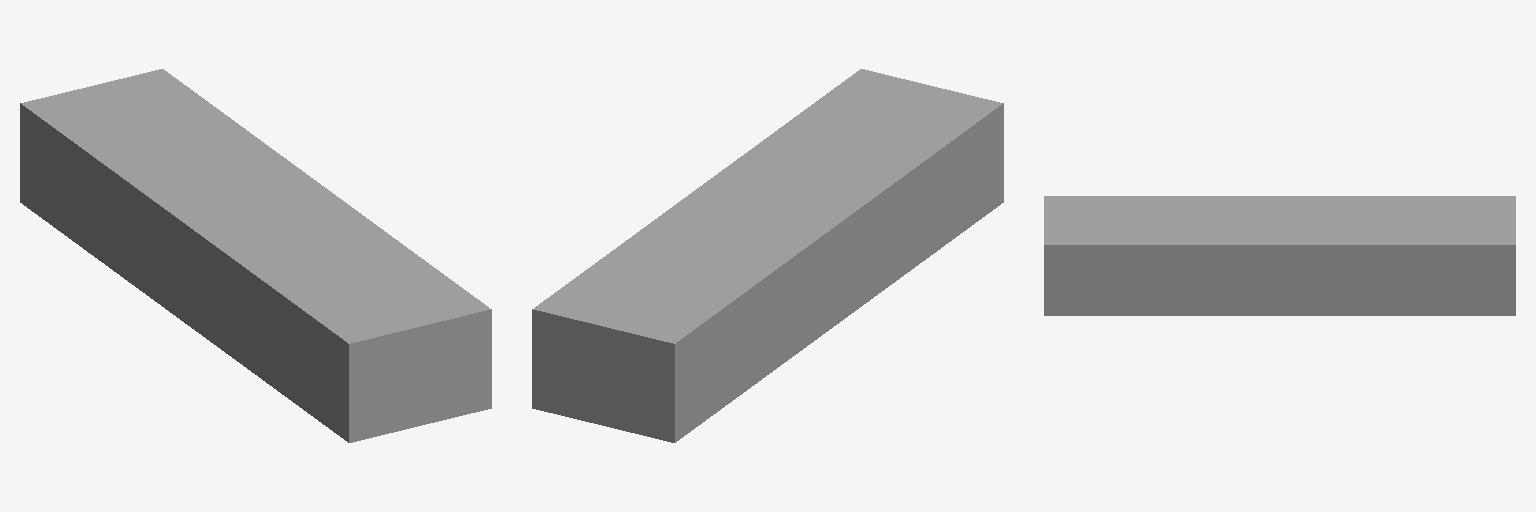
The robot description file, URDF, robot "table":
<?xml version="1.0" ?>
<robot name="table">
  <link name="table">
    <visual>
      <geometry>
        <box size="0.3 1.2 0.2"/>
      </geometry>
      <material name="LightGrey">
        <color rgba="0.7 0.7 0.7 1.0"/>
      </material>
    </visual>
    <collision>
      <geometry>
        <box size="0.3 1.2 0.2"/>
      </geometry>
    </collision>
  </link>
</robot>

--- Render facts (derived) ---
The picture shows the robot from 3 angles, left to right: view 1: azimuth 30°, elevation 25°; view 2: azimuth 150°, elevation 25°; view 3: azimuth 270°, elevation 25°; orthographic projection.
Robot: table — 1 links, 0 joints (none); root link table; default pose: every joint at zero.
Links seen in each view (by area): view 1: table; view 2: table; view 3: table.
Link boxes in pixels (bbox=[...]): table: bbox=[20, 69, 491, 442]; table: bbox=[532, 69, 1003, 442]; table: bbox=[1044, 196, 1515, 315].
Size in the robot's own frame: 0.3 by 1.2 by 0.2 metres.
Geometry: primitives only (box / cylinder / sphere), no mesh files.